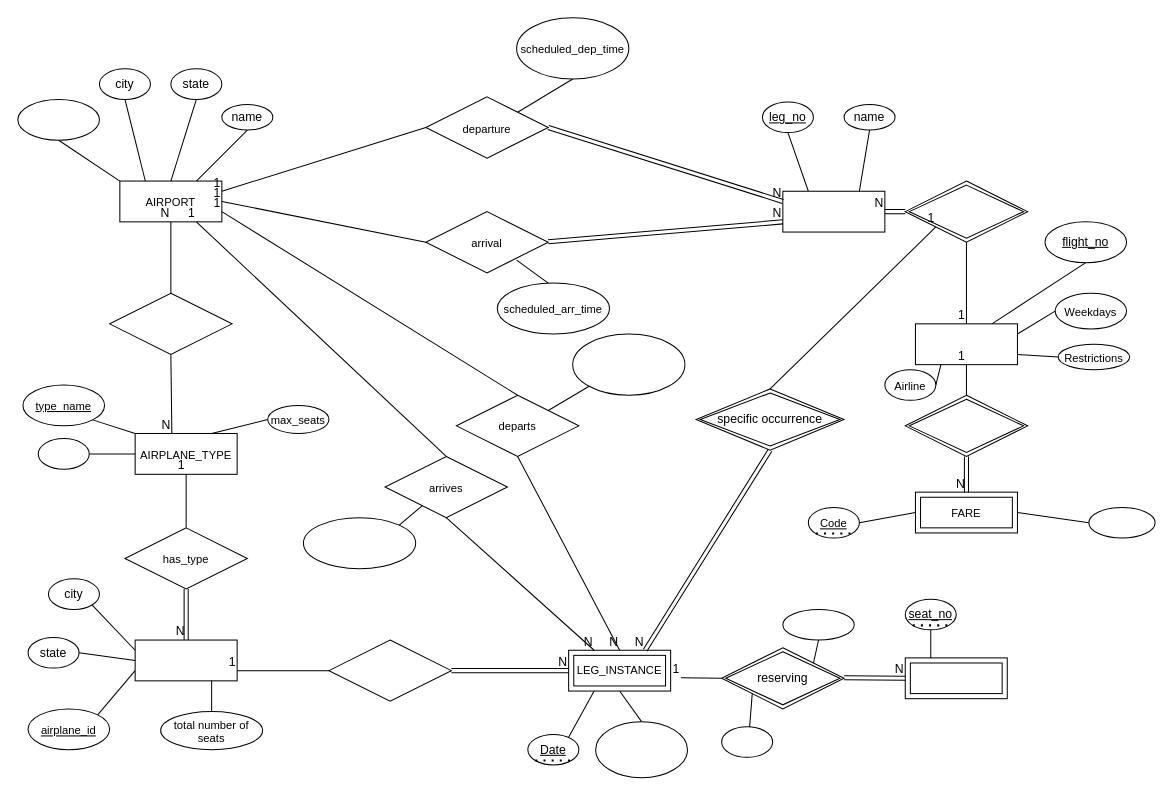
This 1173x796 diagram has some shape labels left out. Here are the shapes that lost their labels. From the top down, the centre of each, then its label:
At (58,119): "airport_code".
At (833,211): "FLIGHT_LEG".
At (966,211): "has_leg".
At (170,323): "may_land".
At (628,364): "Departure time".
At (965,344): "FLIGHT".
At (966,425): "has_fare".
At (63,453): "company".
At (1121,522): "Amount".
At (359,543): "Arrival time".
At (818,624): "Cphone".
At (185,660): "AIRPLANE".
At (389,670): "assigned".
At (955,678): "SEAT_ RESERVATION".
At (641,749): "Number of available seats".
At (747,741): "Cname".
